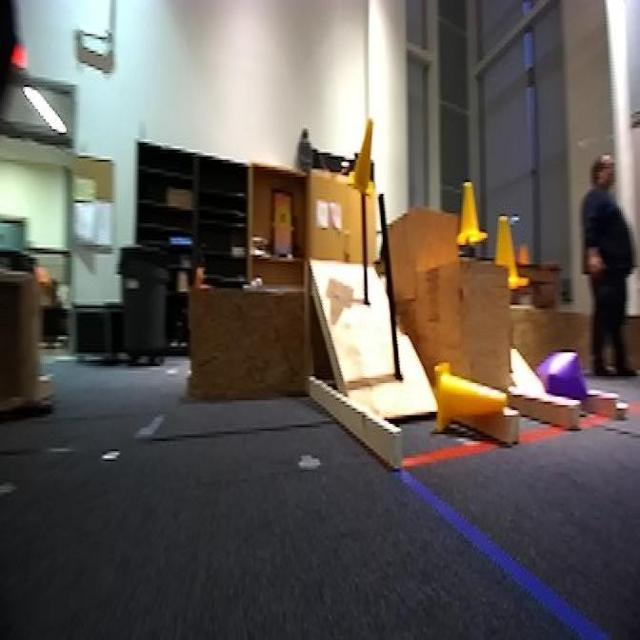frc_cone: (430, 362, 508, 430), (494, 211, 529, 295), (344, 121, 377, 201), (452, 177, 487, 247)
frc_cube: (537, 352, 581, 408)
